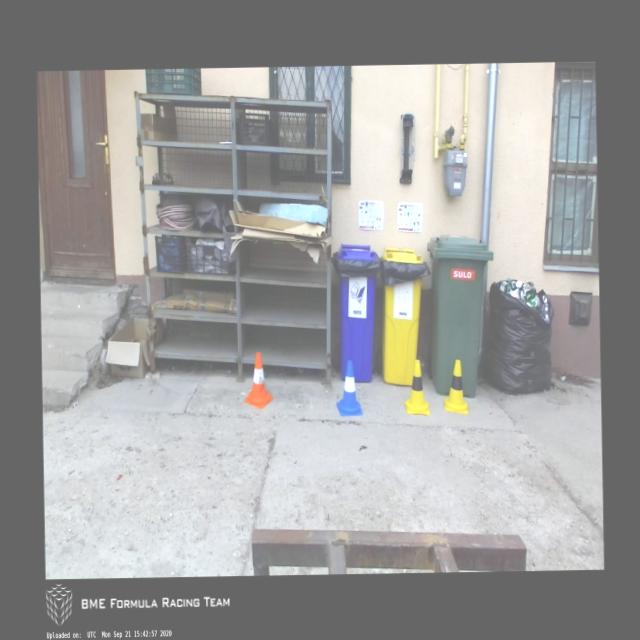blue_cone: (335, 360, 361, 415)
orange_cone: (242, 351, 272, 408)
yellow_cone: (443, 358, 468, 413), (404, 360, 429, 414)
